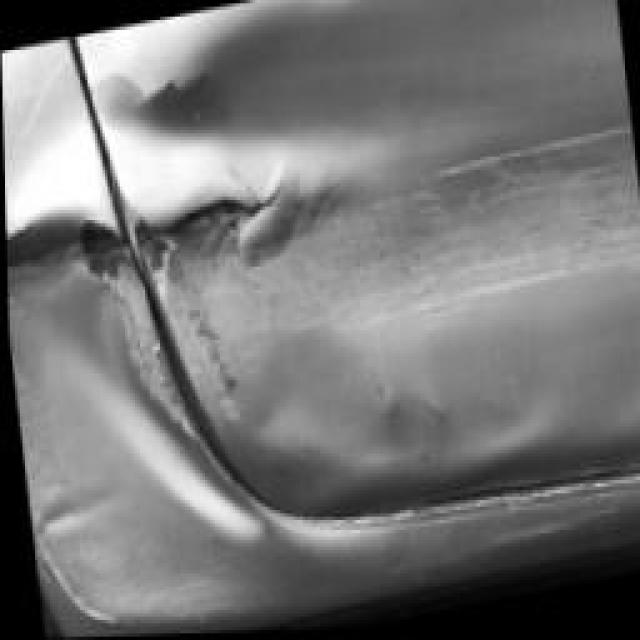Bumper: (2, 160, 191, 536)
Dickey: (88, 0, 640, 477)
